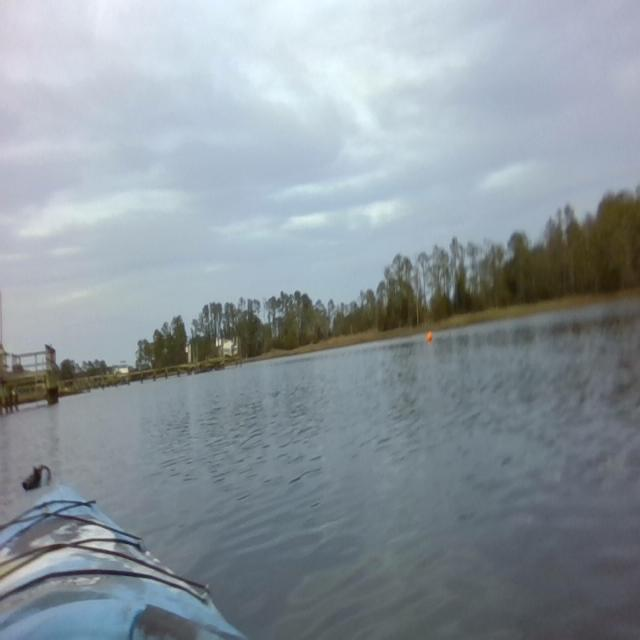Buoy: (424, 327, 436, 346)
